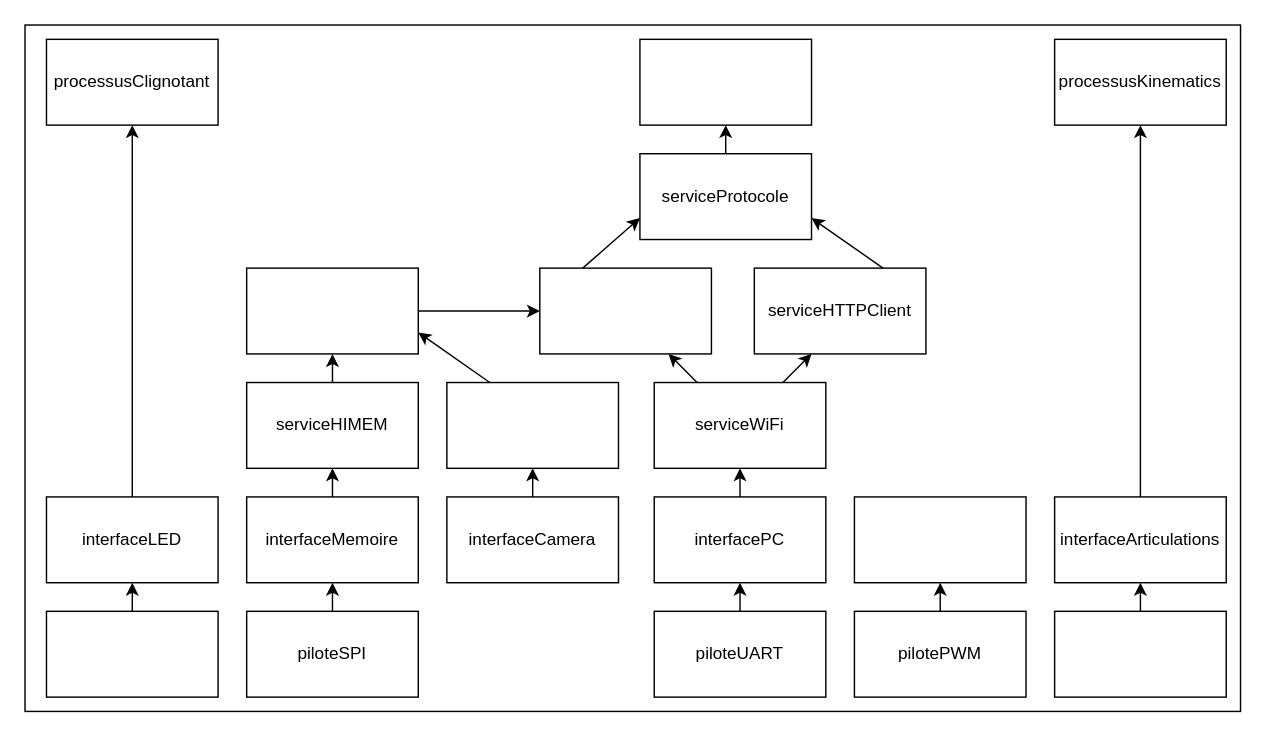
The diagram is 1266 pixels wide and 736 high, and some of its shapes have lost their labels. The shapes that lost their labels are listed below. From the top down, each one's centre as x and y in pixels, then its label:
At point 725,81: "processusWeb".
At point 331,310: "serviceDetection".
At point 624,310: "serviceHTTPServeur".
At point 531,424: "serviceCamera".
At point 939,539: "interfaceMoteurs".
At point 131,653: "piloteGPIO".
At point 1139,653: "piloteADC".
